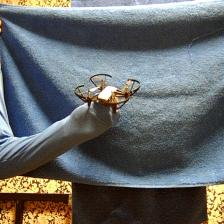drone: (73, 72, 141, 112)
